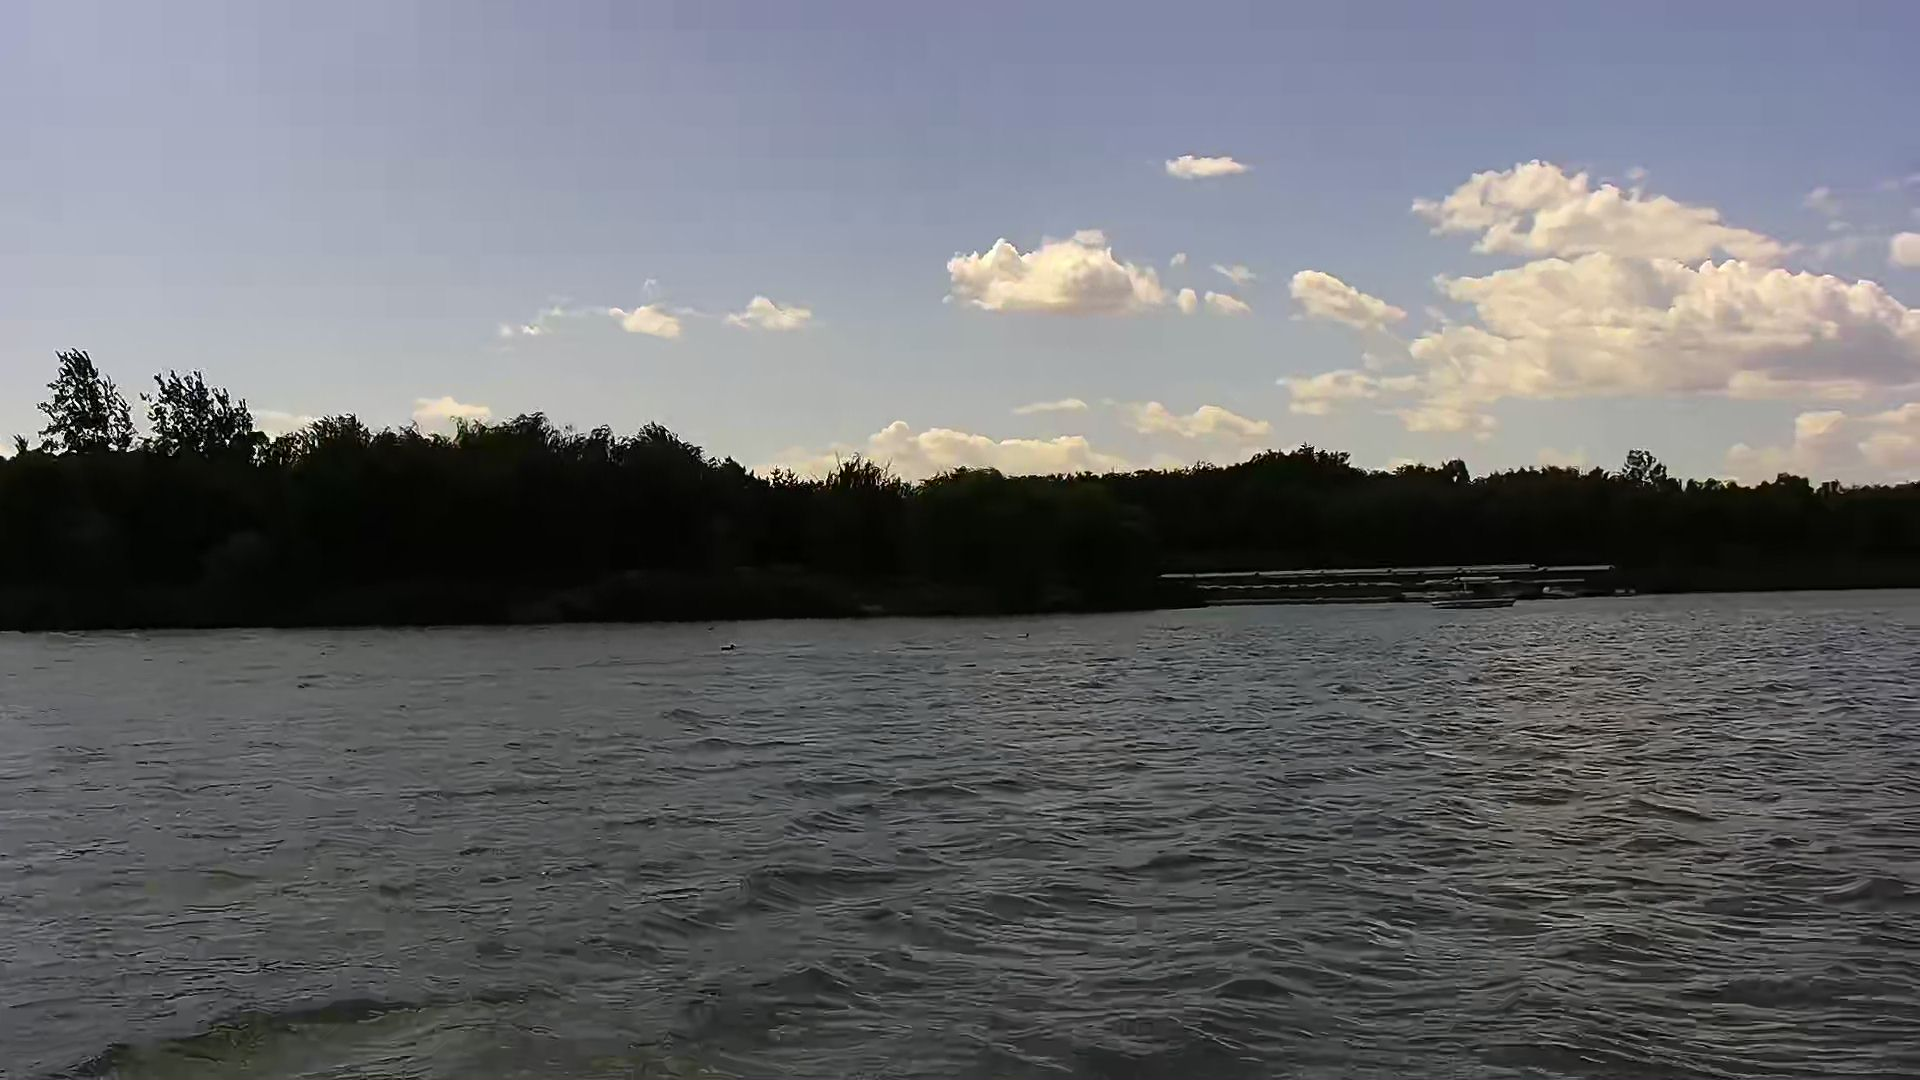boat: (1424, 572, 1523, 617)
harbor: (1153, 566, 1625, 607)
